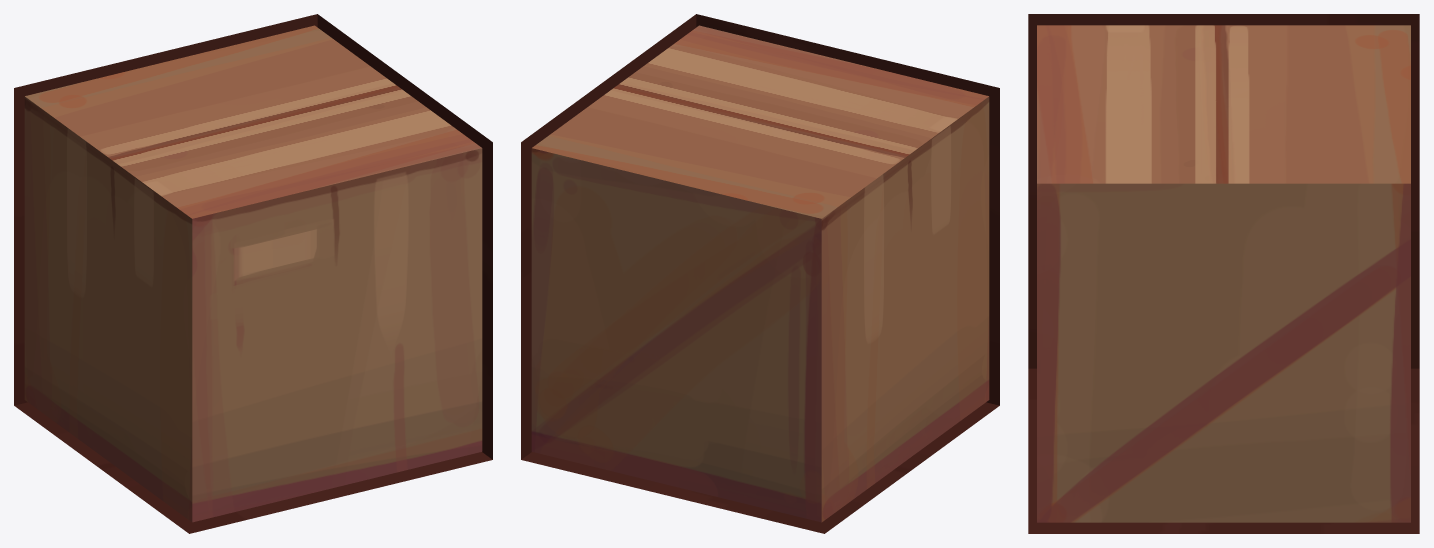
The picture shows the model from 3 angles, left to right: view 1: azimuth 30°, elevation 25°; view 2: azimuth 150°, elevation 25°; view 3: azimuth 270°, elevation 25°; orthographic projection. The views are drawn at different scales.
Visible parts, largest first — view 1: Box_01; view 2: Box_01; view 3: Box_01.
Boxes of the visible parts, box(x1,y1,x2,y2) form: Box_01: box(14, 14, 492, 533); Box_01: box(521, 14, 999, 533); Box_01: box(1028, 14, 1419, 533).
Size of the model in its own units: 1.05 by 1.05 by 1.05.
